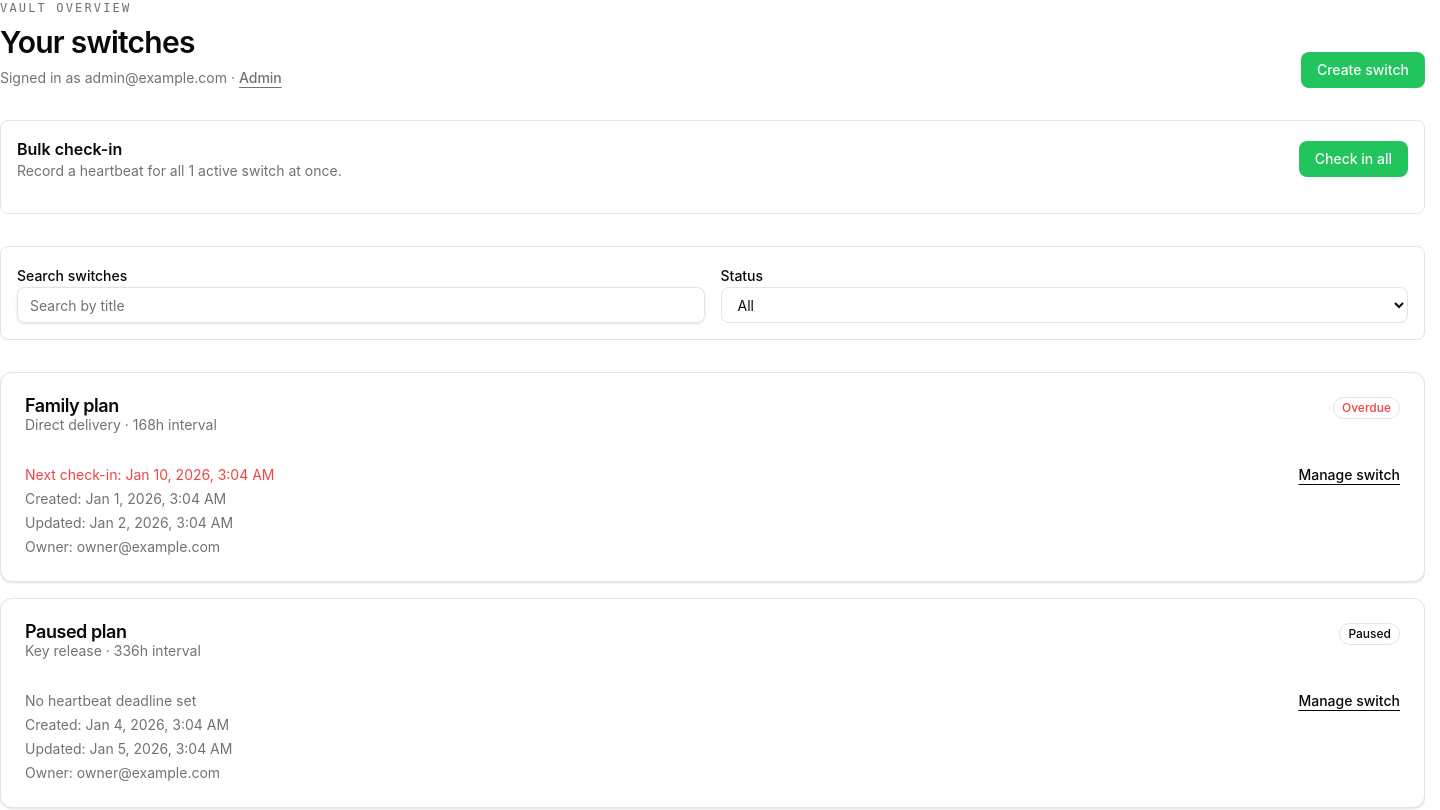
HomePage › filters loaded switches by case-insensitive title text without another request
Type "fAmIlY" into the search field labelled "Search switches" at (361, 305), box [17,287,704,323]
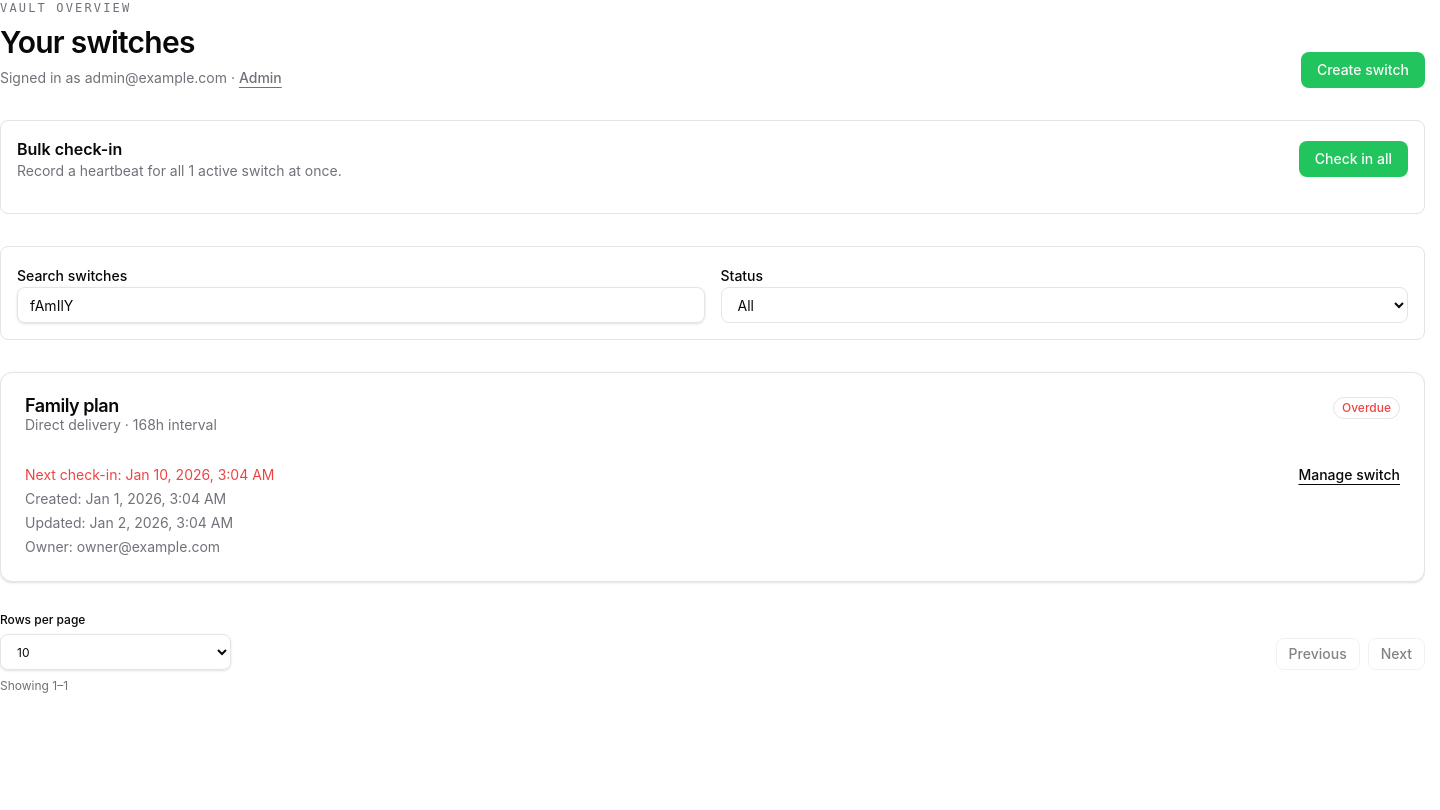
expect the heading "Family plan" is shown: met, box [25,395,119,416]
expect the heading "Paused plan" is gone: met
